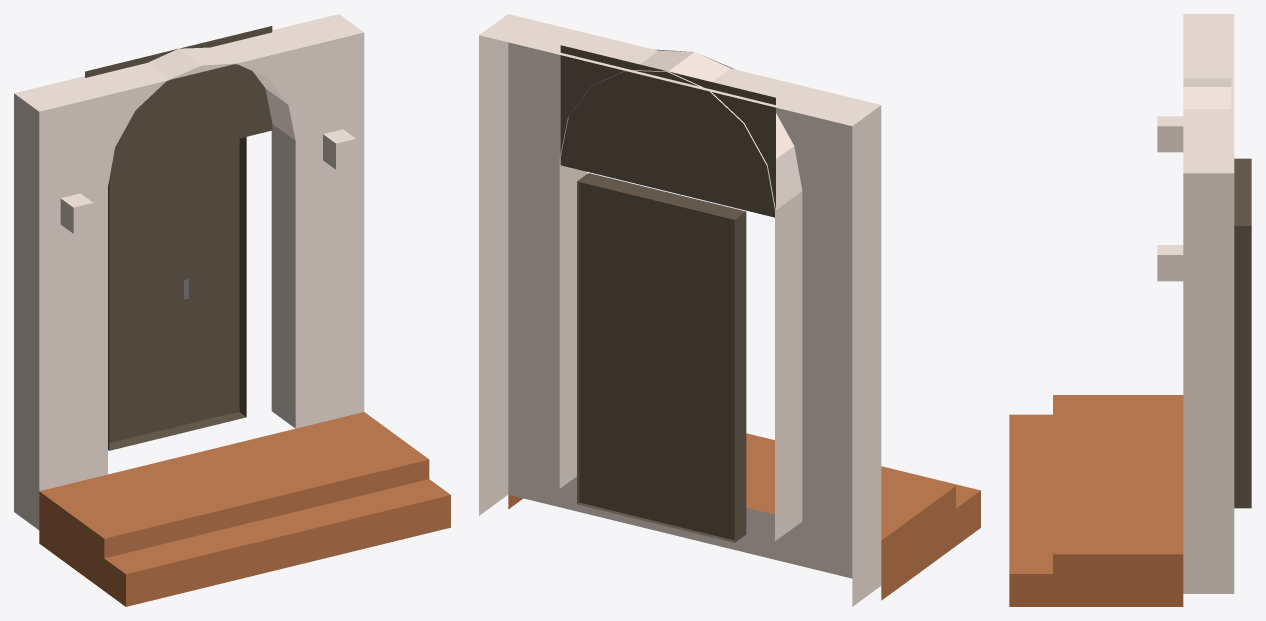
Rendered from entrance.fbx.
The picture shows the model from 3 angles, left to right: view 1: azimuth 30°, elevation 25°; view 2: azimuth 150°, elevation 25°; view 3: azimuth 270°, elevation 25°; orthographic projection. The views are drawn at different scales.
Visible parts, largest first — view 1: a2000s2/200/entrance; view 2: a2000s2/200/entrance; view 3: a2000s2/200/entrance.
Boxes of the visible parts, left/top/right/bottom form: a2000s2/200/entrance: left=14, top=14, right=450, bottom=606; a2000s2/200/entrance: left=479, top=14, right=980, bottom=606; a2000s2/200/entrance: left=1009, top=14, right=1251, bottom=606.
Size of the model in its own units: 2.6 by 3.35 by 1.67.
